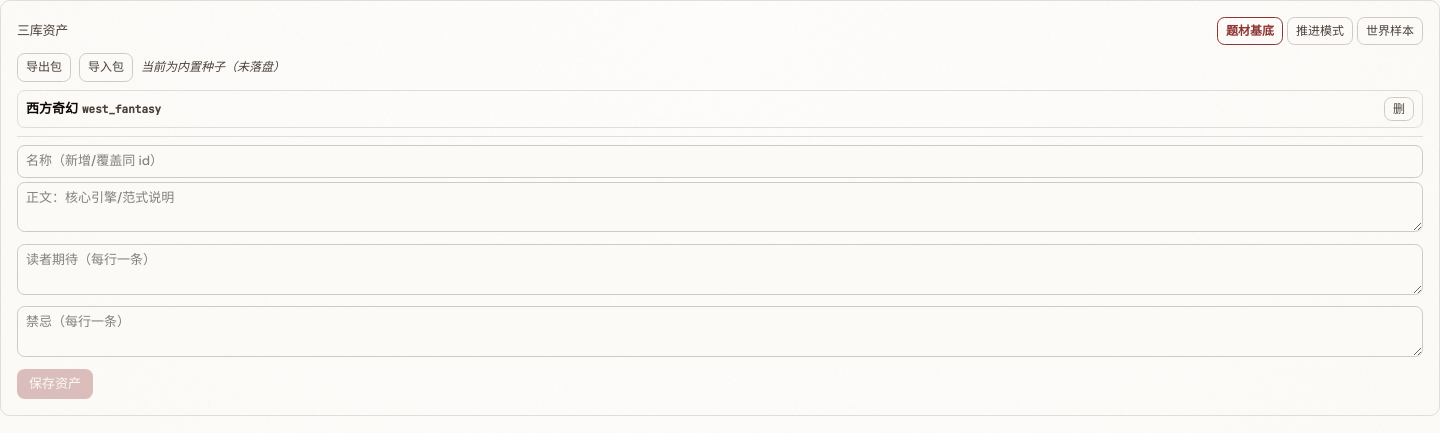
Test case: AssetLibraryPanel 交互（475 号） › 删除资产走 DELETE 并重拉；失败时提示内置种子受保护
Expected: the button "西方奇幻" is shown, [26,100,1376,118]
Click the button "删": click(1399, 109) [1384,97,1414,121]
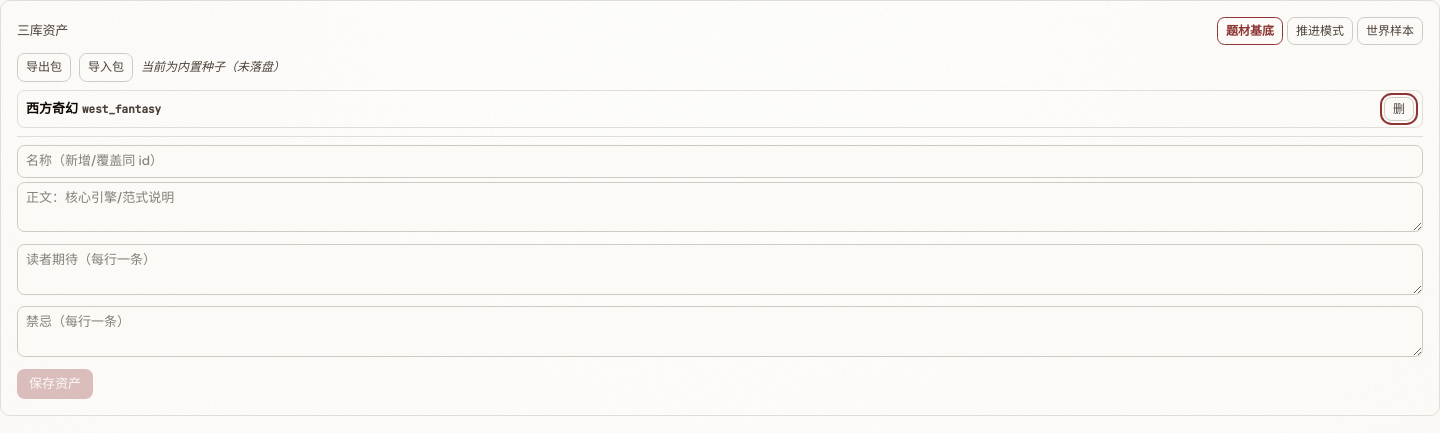
Click the button "删": click(1399, 109) [1384,97,1414,121]
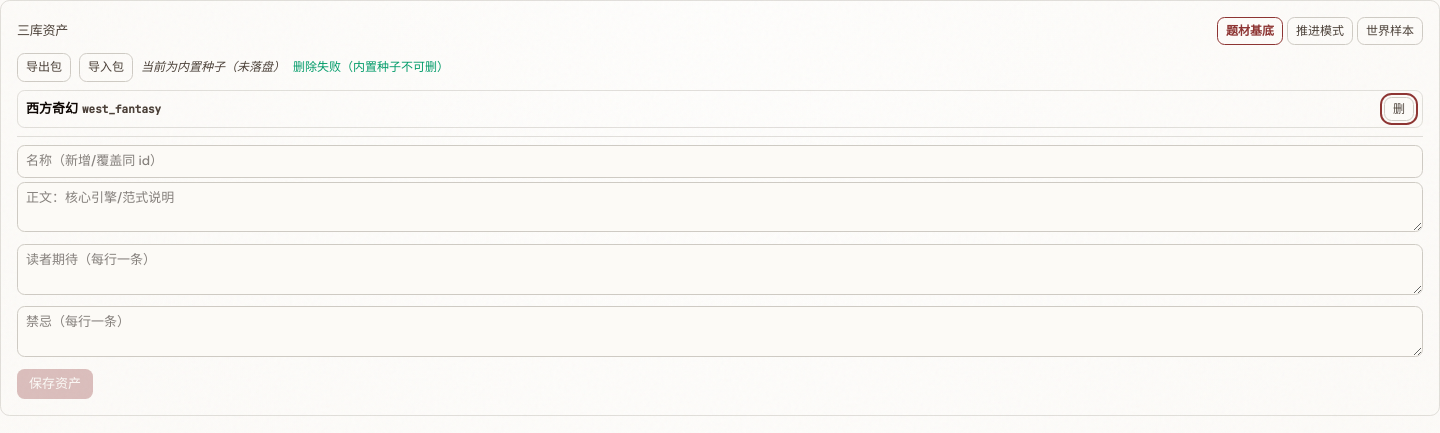
Expected: the text "删除失败（内置种子不可删）" is shown, [293,58,449,77]
